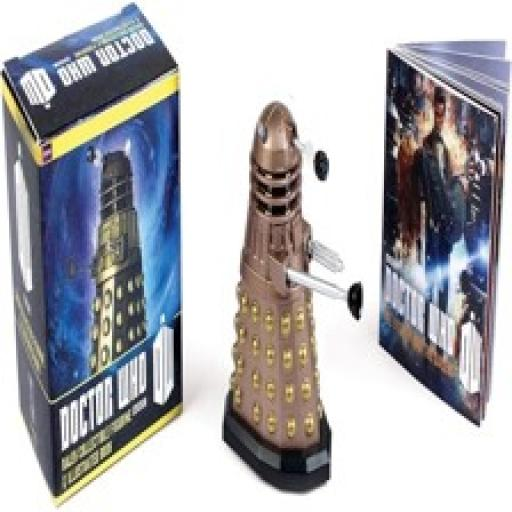dalek: (215, 98, 363, 494), (66, 140, 153, 368)
